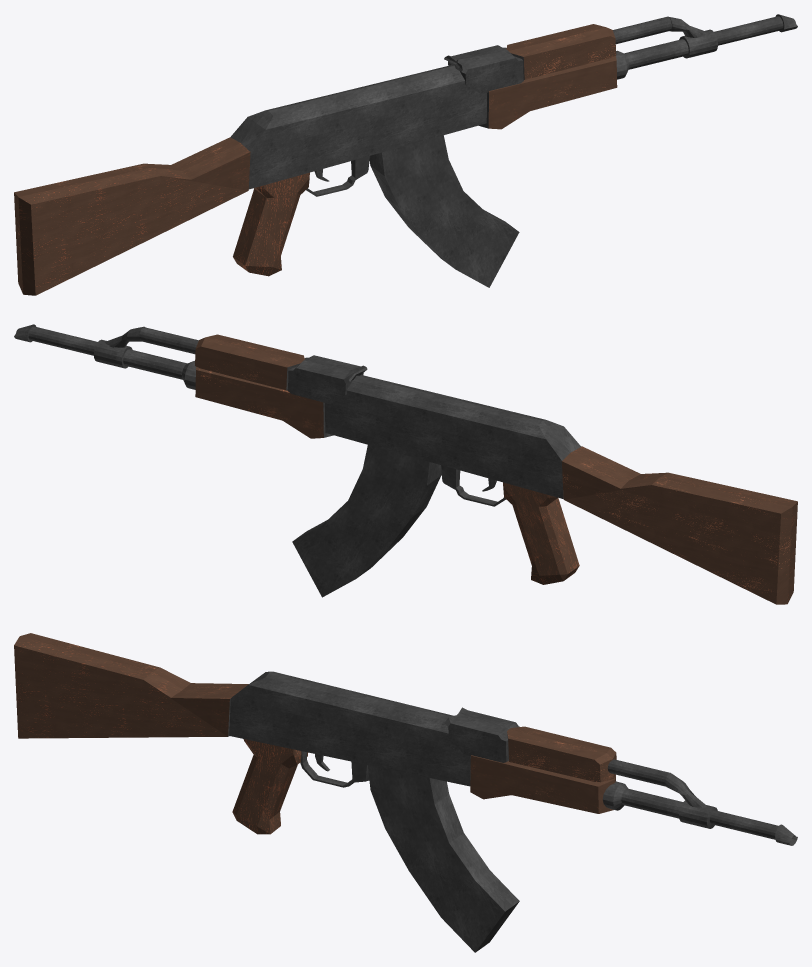
File: akm.glb
The picture shows the model from 3 angles, top to bottom: view 1: azimuth 30°, elevation 25°; view 2: azimuth 150°, elevation 25°; view 3: azimuth 330°, elevation 25°; orthographic projection.
Parts seen in each view (by area): view 1: Plane.001; view 2: Plane.001; view 3: Plane.001.
Boxes of the visible parts, x1,y1,x2,y2 form: Plane.001: [14, 14, 797, 295]; Plane.001: [14, 324, 797, 604]; Plane.001: [14, 633, 797, 952].
Bounding box in the file's own units: 4.59 × 1.3 × 0.2082.
1 material, 1 textured.
